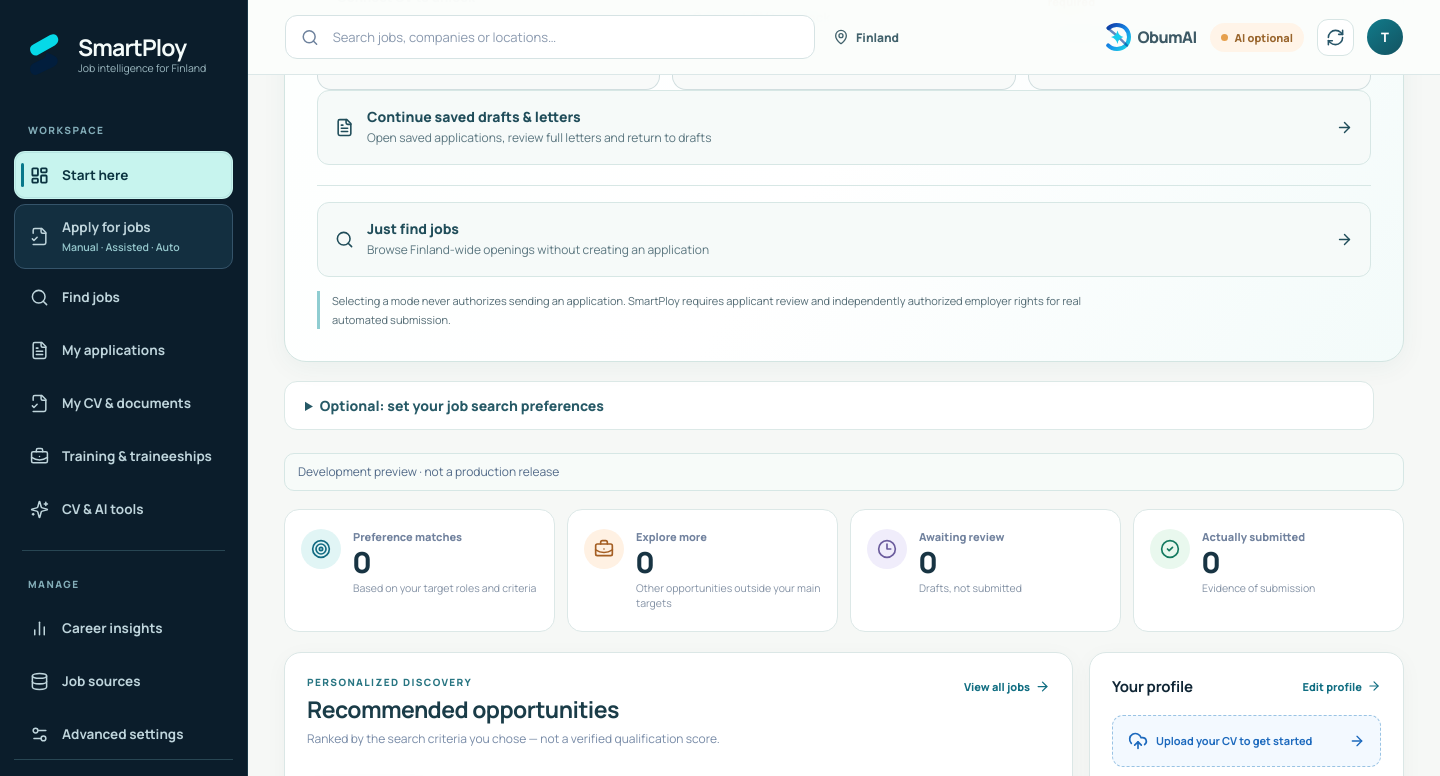
Scenario: actual SmartPloy App first-use and application handoff › SP87 starts with a CV even when optional AI is unavailable; modes remain locked
(page scrolled)
Expected: the navigation bar named "Main navigation" is shown, [14, 113, 233, 759]
Expected: the button "Apply for jobs Manual · Assisted · Auto" is shown, [14, 204, 233, 269]
Click the heading "Optional: set your job search preferences": (462, 406) [320, 396, 604, 415]
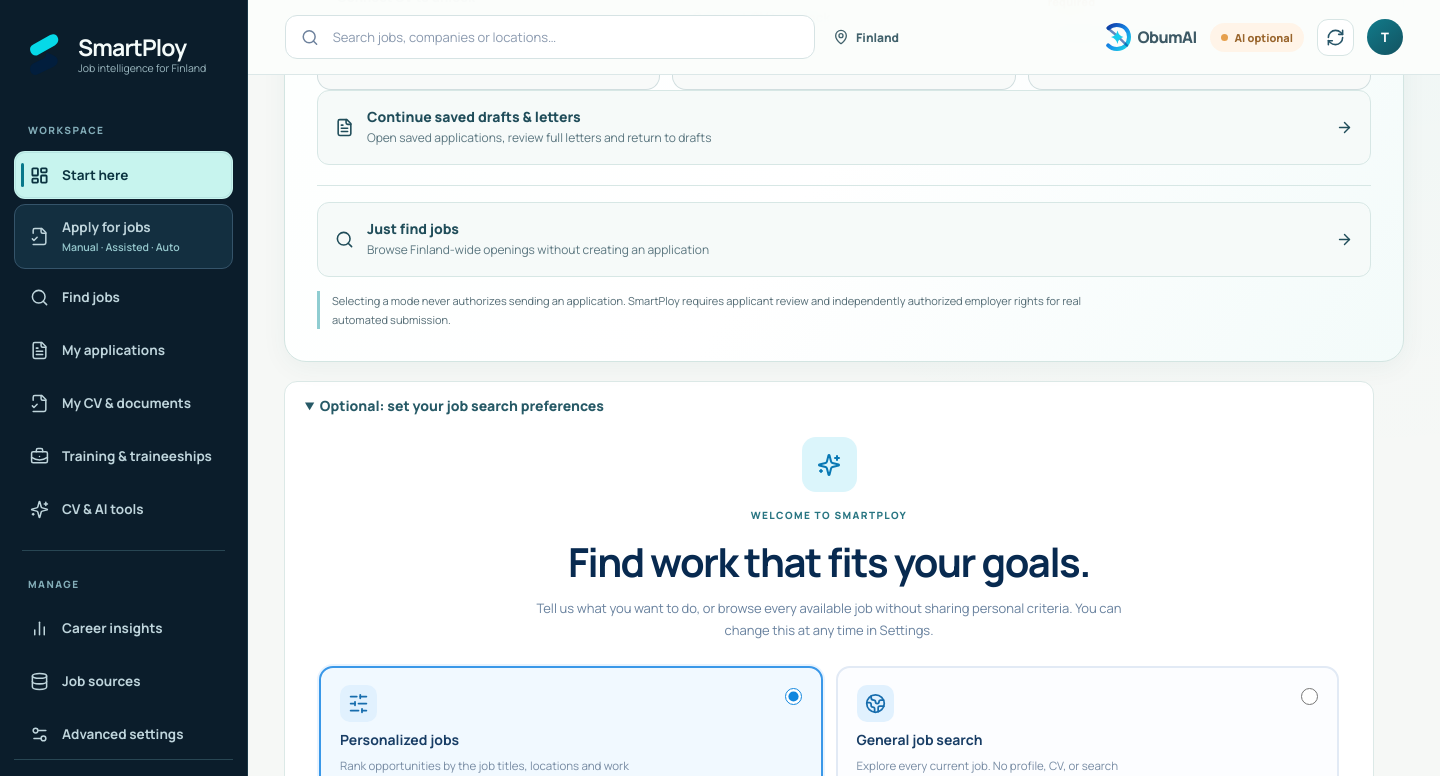
Result: the radio button labelled "General job search" is shown at [1301, 688, 1318, 704]
